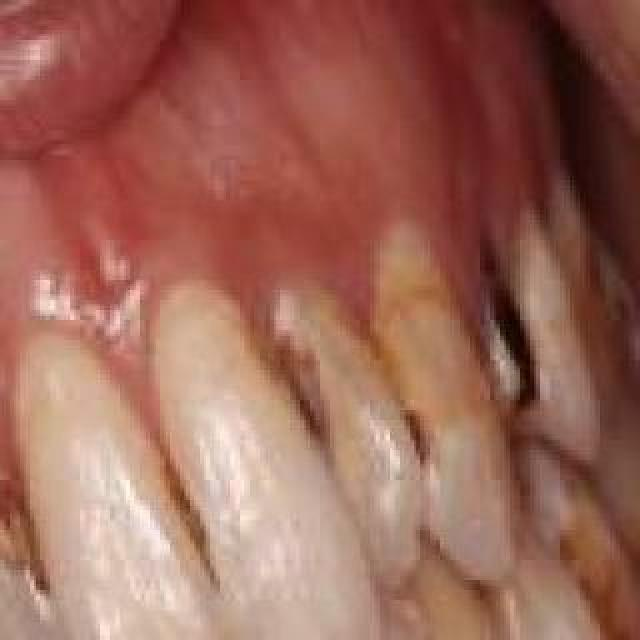calculus: (528, 634, 640, 640)
cavities: (465, 245, 531, 399), (164, 475, 220, 575), (0, 494, 60, 574), (285, 350, 325, 446), (400, 414, 436, 470)
plaque: (258, 245, 328, 387)
stains: (534, 202, 636, 410), (508, 461, 622, 633), (347, 205, 465, 355)
